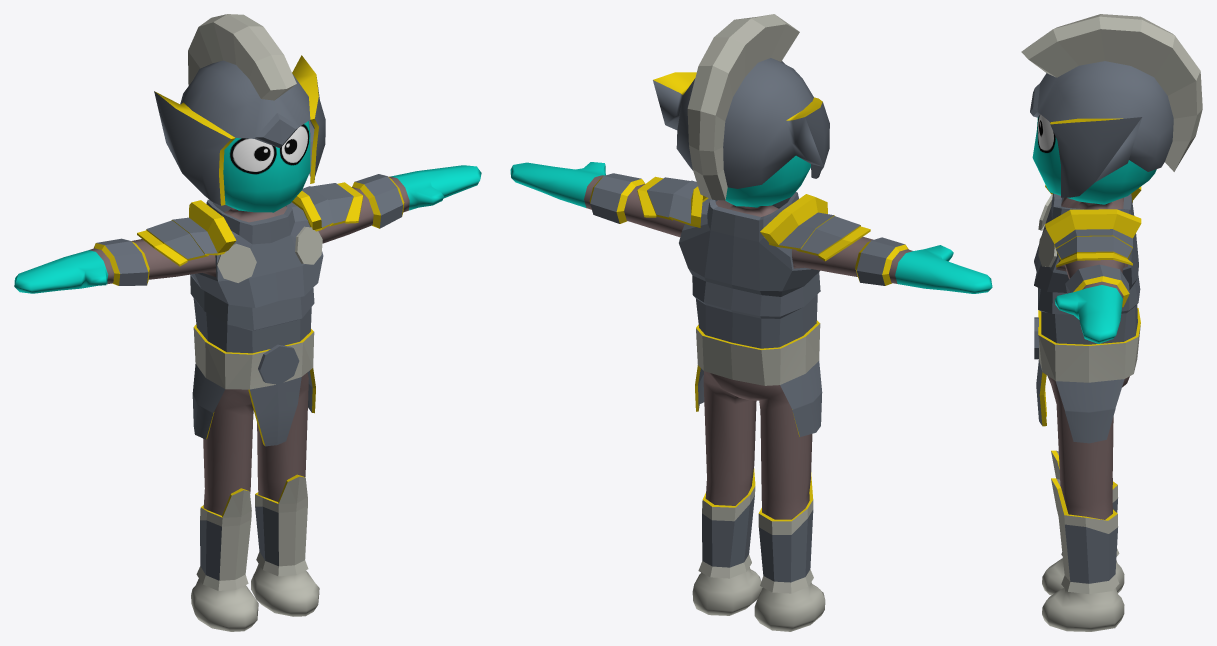
The model's file is character.fbx.
3 views of the same model, side by side, from view 1: azimuth 30°, elevation 25°; view 2: azimuth 150°, elevation 25°; view 3: azimuth 270°, elevation 25° (orthographic). The views are drawn at different scales.
Visible parts, largest first — view 1: Character; view 2: Character; view 3: Character.
Boxes of the visible parts, bbox=[...] form: Character: bbox=[14, 14, 481, 631]; Character: bbox=[510, 14, 992, 631]; Character: bbox=[1021, 14, 1202, 631].
Size of the model in its own units: 6.07 by 7.17 by 2.
Materials: 8 (1 with a texture image).
